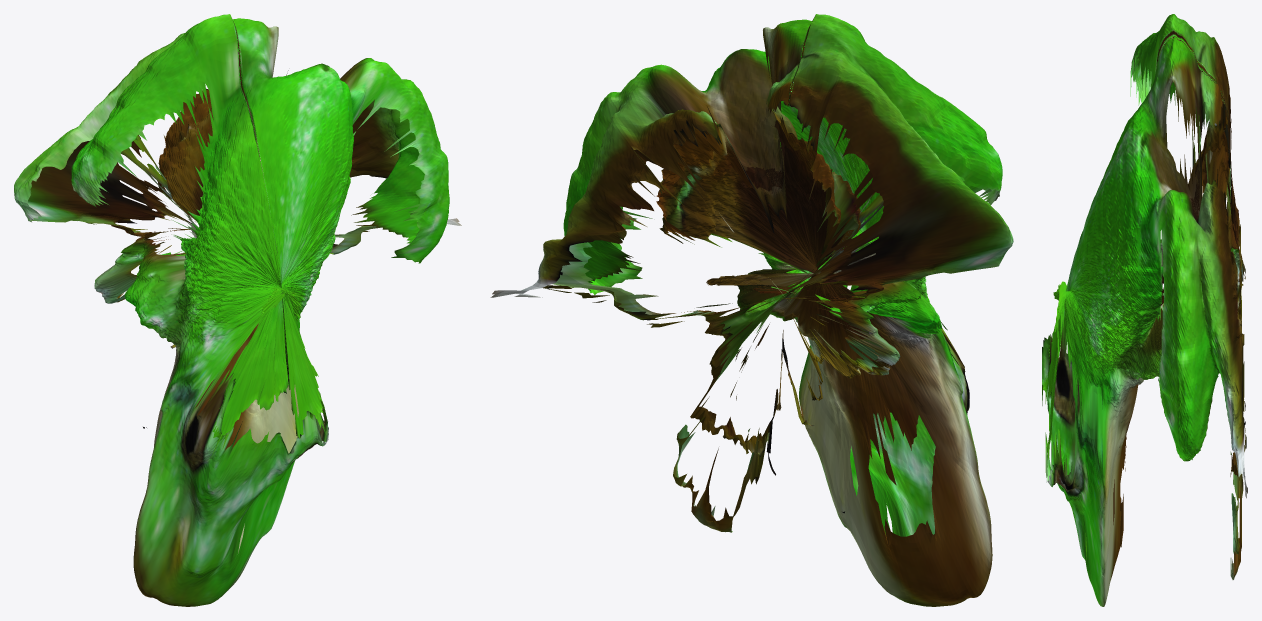
3 renders of one model, left to right at view 1: azimuth 30°, elevation 25°; view 2: azimuth 150°, elevation 25°; view 3: azimuth 270°, elevation 25°, orthographic. The views are drawn at different scales.
Visible parts, largest first — view 1: geometry_0; view 2: geometry_0; view 3: geometry_0.
Part boxes in pixels (x1,y1,x2,y2): geometry_0: (14,14,461,606); geometry_0: (490,14,1013,606); geometry_0: (1042,14,1247,606).
Size of the model in its own units: 1.5 by 1.71 by 0.5254.
Materials: 1 (1 with a texture image).
